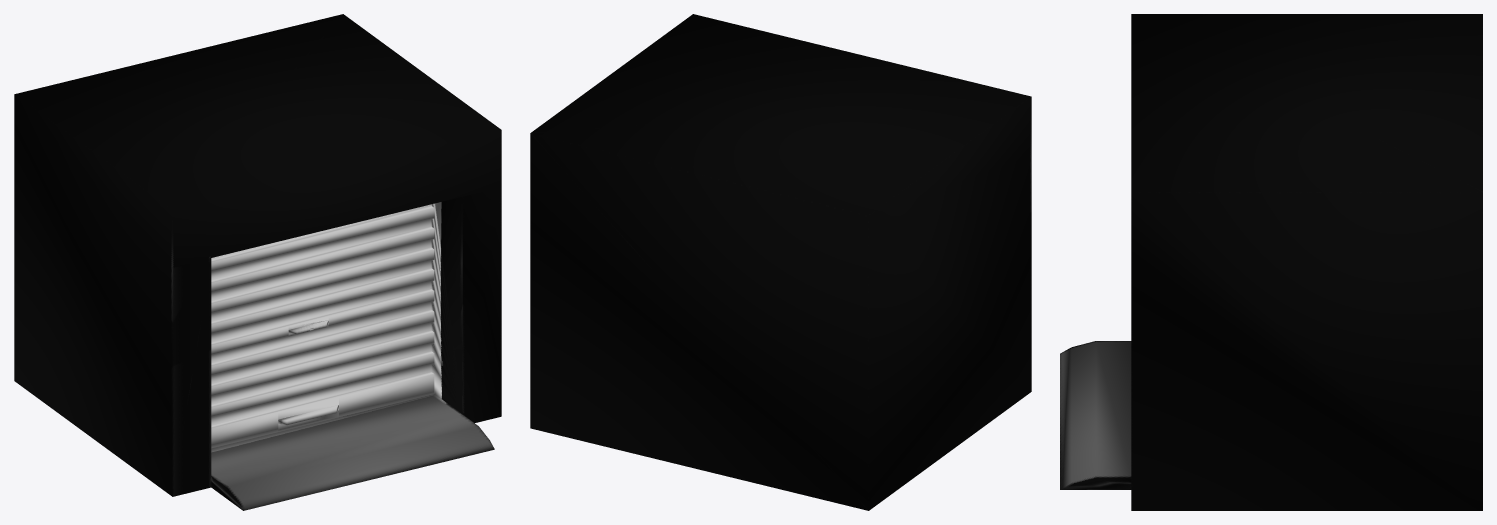
The model's file is myGarage.glb.
3 views of the same model, side by side, from view 1: azimuth 30°, elevation 25°; view 2: azimuth 150°, elevation 25°; view 3: azimuth 270°, elevation 25° (orthographic). The views are drawn at different scales.
Visible parts, largest first — view 1: node_id3; view 2: node_id3; view 3: node_id3.
Part boxes in pixels (box(x1,y1,x2,y2)): node_id3: box(14, 14, 501, 510); node_id3: box(530, 14, 1031, 510); node_id3: box(1060, 14, 1482, 510).
Size of the model in its own units: 0.512 by 0.4267 by 0.5131.
1 material, 1 textured.
